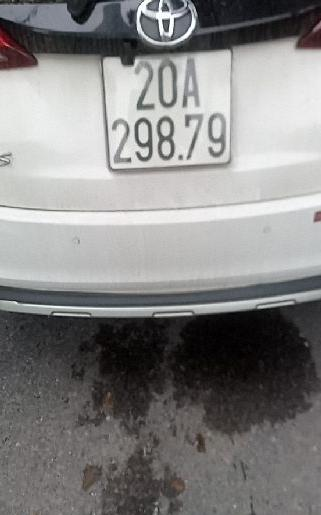Plate-iWeP: (108, 55, 231, 170)
